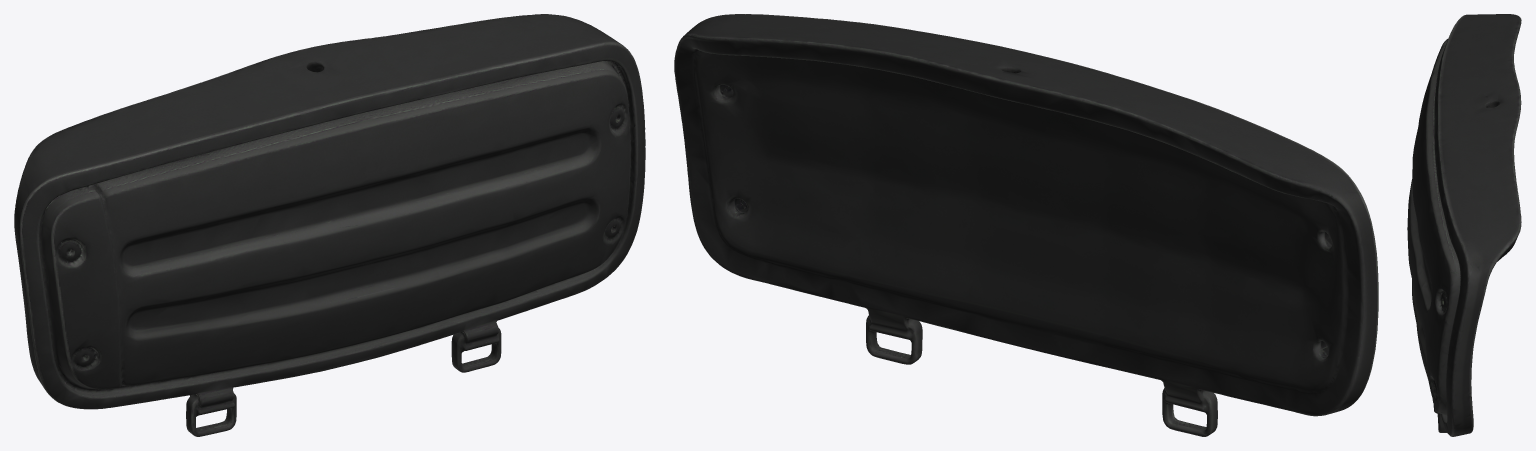
The model's file is Meshy_AI_Armored_Cargo_Hatch_0513102422_texture.fbx.
3 renders of one model, left to right at view 1: azimuth 30°, elevation 25°; view 2: azimuth 150°, elevation 25°; view 3: azimuth 270°, elevation 25°, orthographic. The views are drawn at different scales.
Visible parts, largest first — view 1: Mesh_0; view 2: Mesh_0; view 3: Mesh_0.
Part boxes in pixels (x1,y1,x2,y2): Mesh_0: [14, 14, 645, 436]; Mesh_0: [674, 14, 1378, 436]; Mesh_0: [1407, 14, 1521, 436].
Bounding box in the file's own units: 191 × 93.27 × 35.54.
1 material, 1 textured.
